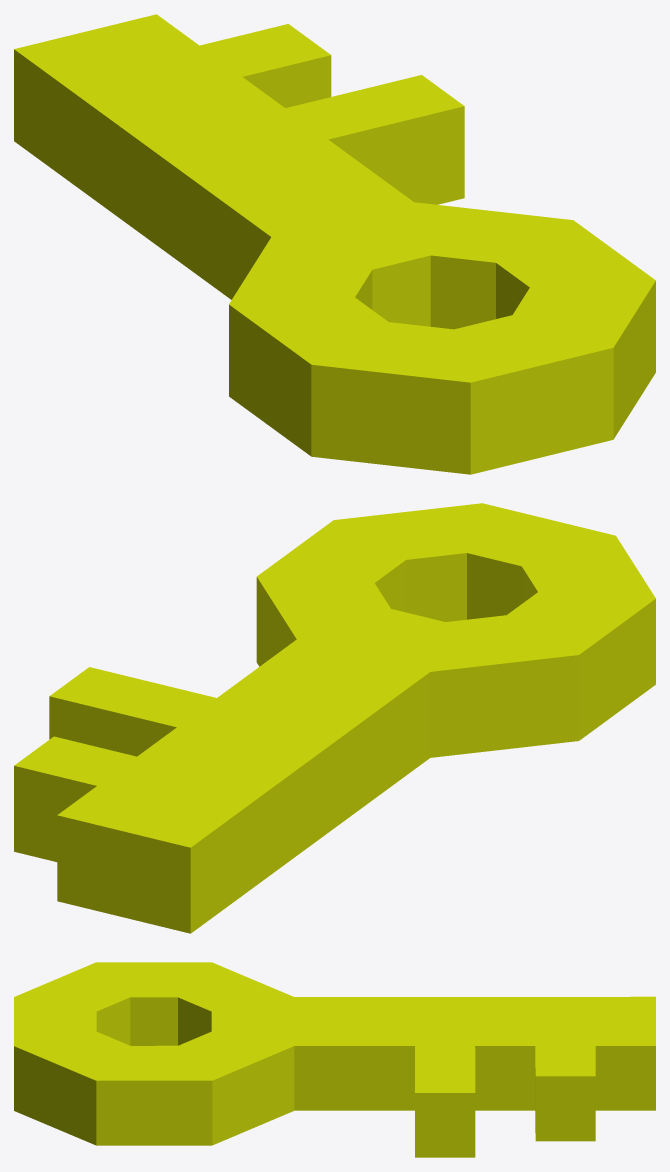
File: Key.fbx
The picture shows the model from 3 angles, top to bottom: view 1: azimuth 30°, elevation 25°; view 2: azimuth 150°, elevation 25°; view 3: azimuth 270°, elevation 25°; orthographic projection. The views are drawn at different scales.
Visible parts, largest first — view 1: Key; view 2: Key; view 3: Key.
Boxes of the visible parts, x1,y1,x2,y2 form: Key: (14, 14, 655, 474); Key: (14, 503, 655, 933); Key: (14, 962, 655, 1157).
Bounding box in the file's own units: 0.3134 × 0.6516 × 0.0726.
